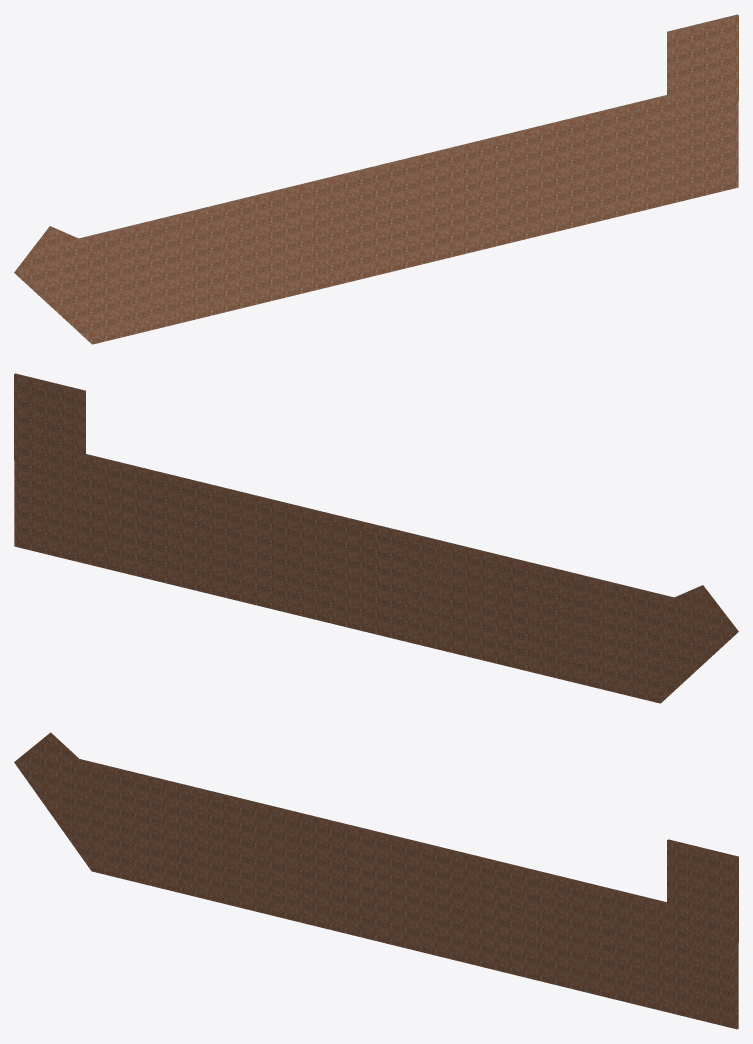
The model's file is floor_2.obj.
The picture shows the model from 3 angles, top to bottom: view 1: azimuth 30°, elevation 25°; view 2: azimuth 150°, elevation 25°; view 3: azimuth 330°, elevation 25°; orthographic projection.
Parts seen in each view (by area): view 1: floor_2; view 2: floor_2; view 3: floor_2.
Boxes of the visible parts, x1,y1,x2,y2 form: floor_2: (14,14,738,344); floor_2: (14,373,738,703); floor_2: (14,732,738,1029).
Size of the model in its own units: 48.21 by 10.97 by 0.1.
1 material, 1 textured.
